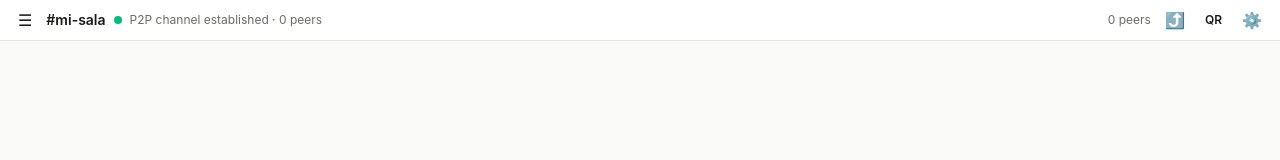
Test: ChatHeader — Share room (issue #41) › falls back to the clipboard and shows the Link copied feedback
Click the button named "Share room".
click(1175, 20)  # box [1159, 8, 1191, 32]
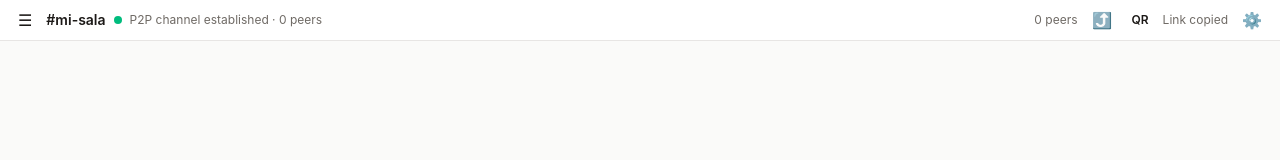
expect the text "Link copied" is shown: met, box [1163, 12, 1228, 28]
